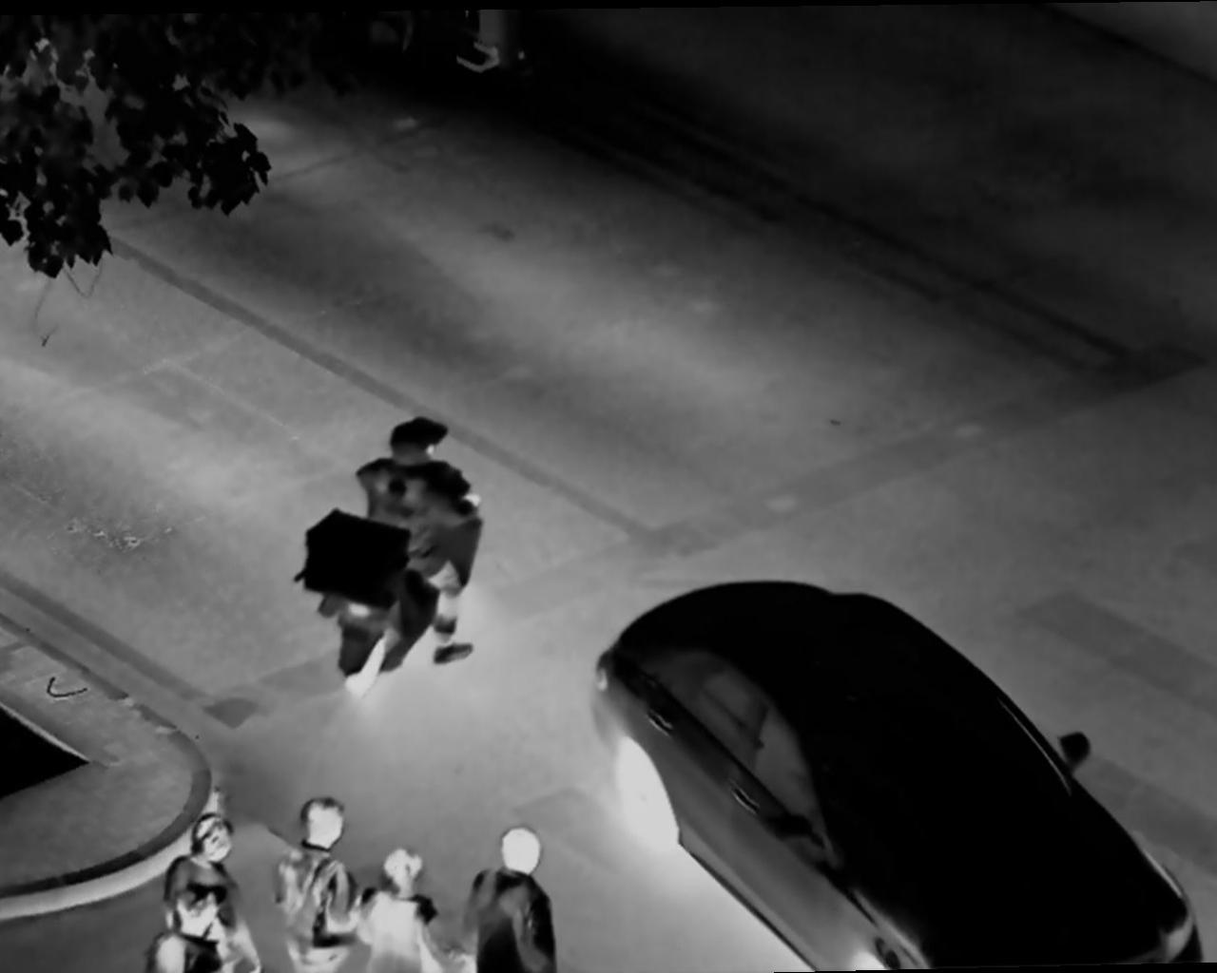person: (355, 409, 469, 671), (157, 808, 247, 973), (455, 823, 545, 973), (283, 794, 354, 973), (361, 840, 437, 973)
